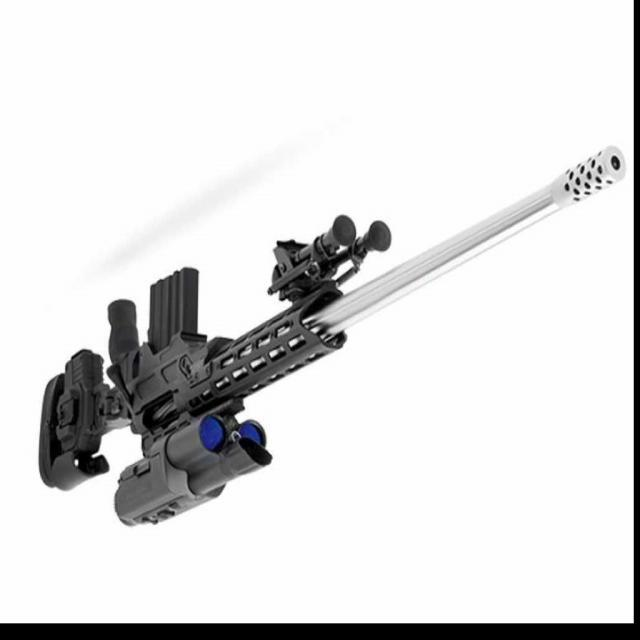weapon: (39, 142, 626, 530)
